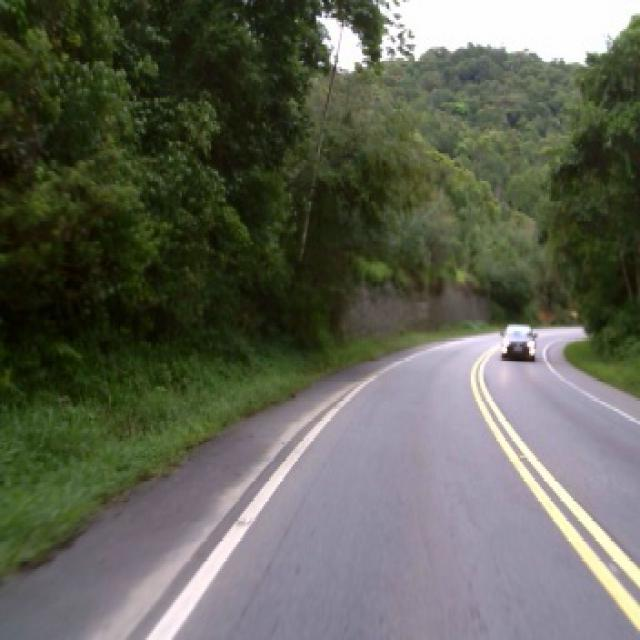Poth-hole: (238, 518, 253, 524), (520, 451, 529, 458)
